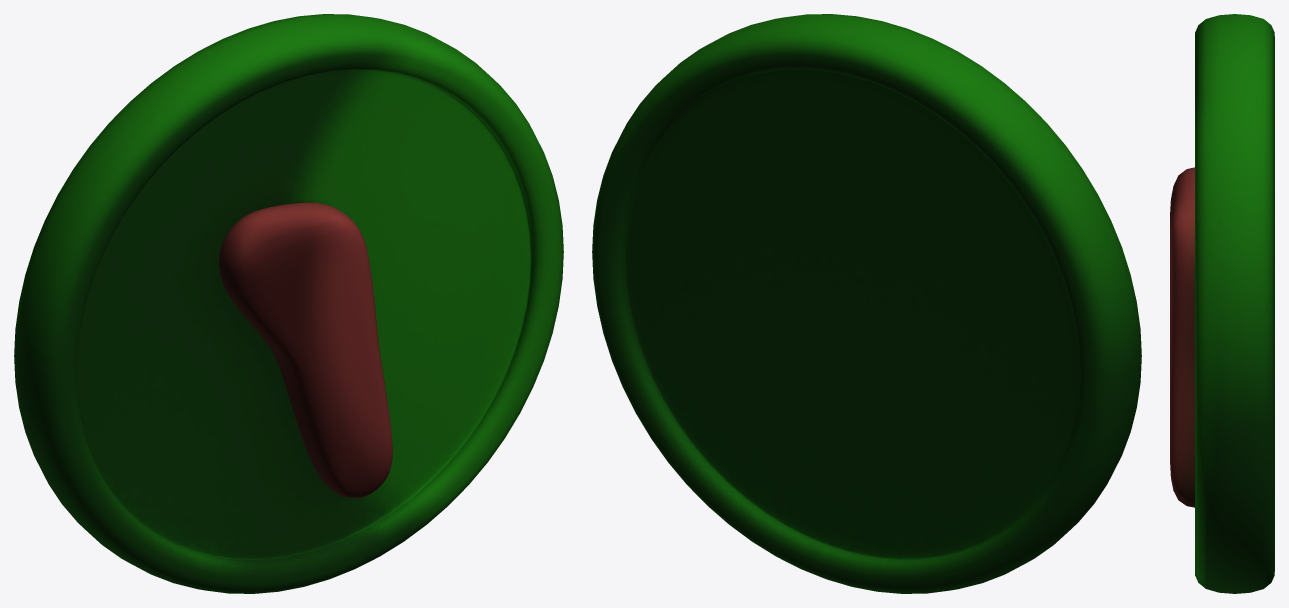
The model's file is BRCyclesMix.gltf.
3 views of the same model, side by side, from view 1: azimuth 30°, elevation 25°; view 2: azimuth 150°, elevation 25°; view 3: azimuth 270°, elevation 25° (orthographic). The views are drawn at different scales.
Parts seen in each view (by area): view 1: Cylinder, Cube; view 2: Cylinder; view 3: Cylinder, Cube.
Part boxes in pixels (x1,y1,x2,y2): Cylinder: (14, 14, 563, 593); Cube: (219, 202, 392, 497); Cylinder: (592, 14, 1141, 593); Cylinder: (1195, 14, 1274, 593); Cube: (1170, 167, 1194, 507).
Bounding box in the file's own units: 2.61 × 2.61 × 0.4716.
Materials: 2 (2 with a texture image).
